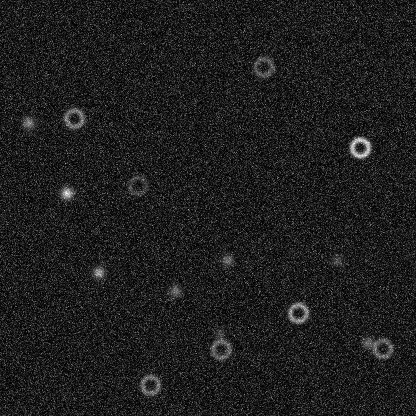Ring: (61, 106, 85, 130), (251, 55, 275, 79), (370, 336, 394, 360), (347, 135, 371, 159), (286, 300, 310, 324), (208, 337, 232, 361), (125, 173, 149, 197), (138, 372, 162, 396)
Spot: (20, 114, 36, 130), (219, 251, 235, 267), (167, 283, 183, 299), (58, 185, 74, 201), (329, 252, 345, 268), (90, 264, 106, 280), (359, 334, 375, 350), (212, 325, 228, 341)
